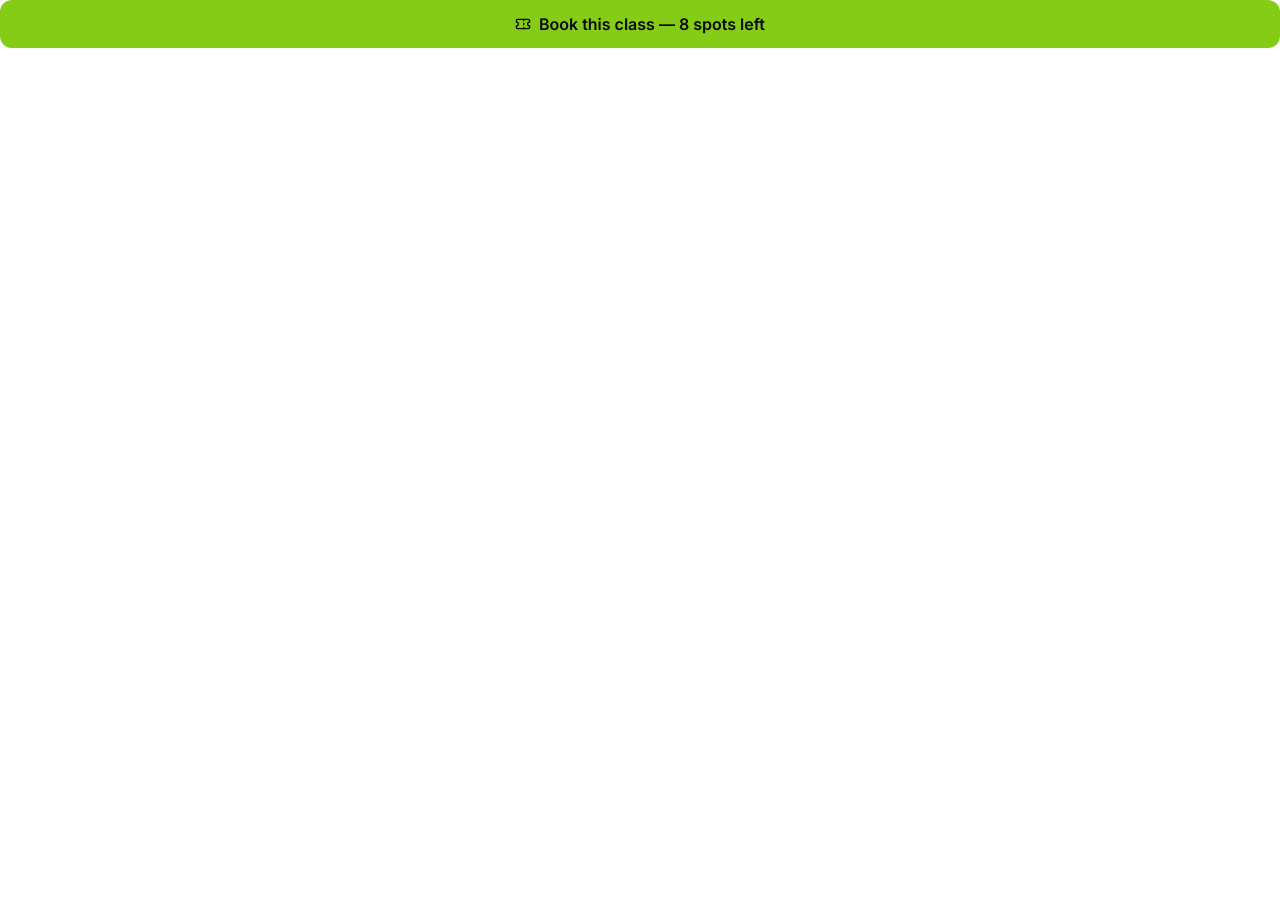
it: BookingActions › opens a confirmation dialog before booking
Click the button "Book this class — 8 spots left": click(640, 24) [0,0,1279,48]
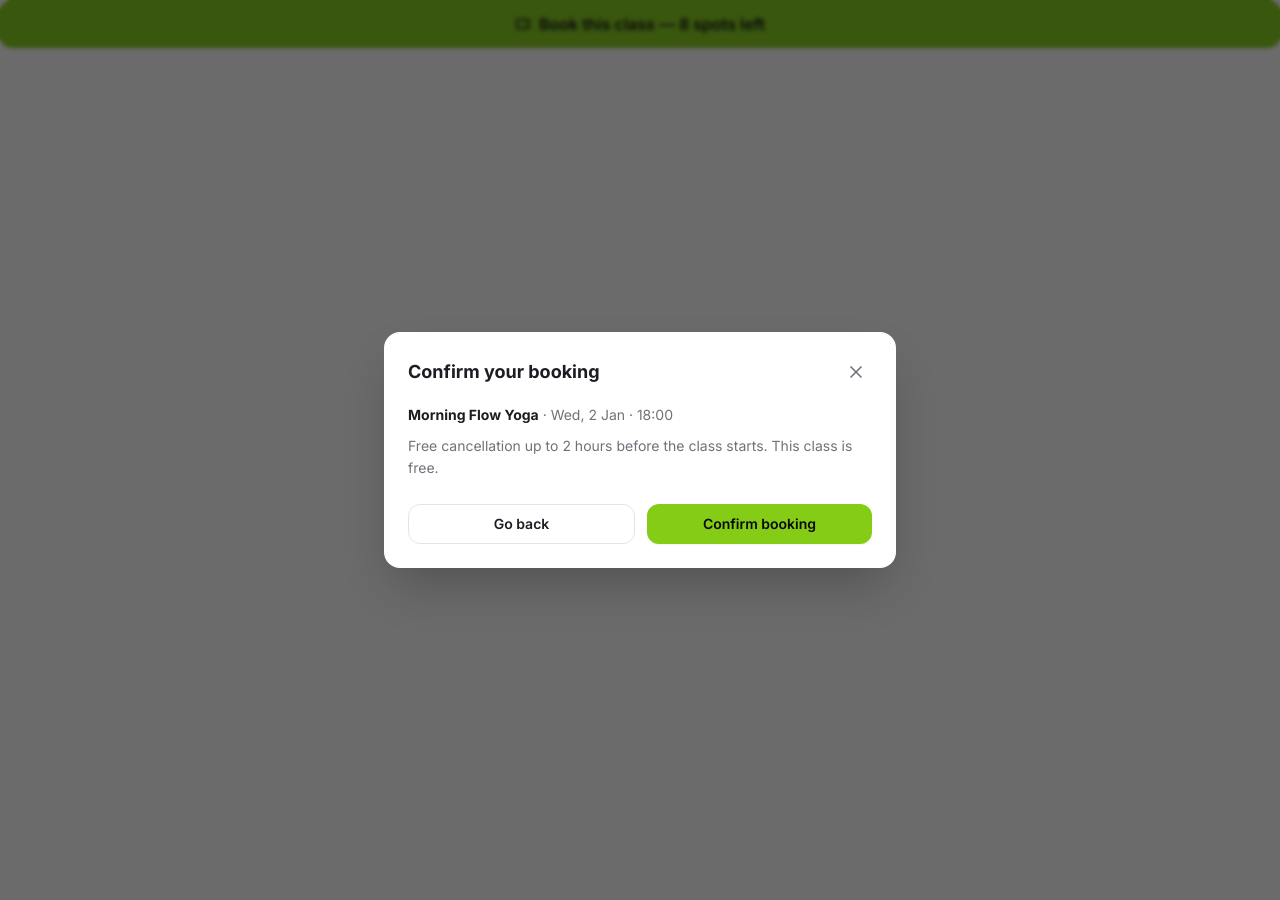
expect the heading "Confirm your booking" is shown: met, box [408,358,600,386]
expect the button "Confirm booking" is shown: met, box [647,504,872,544]
